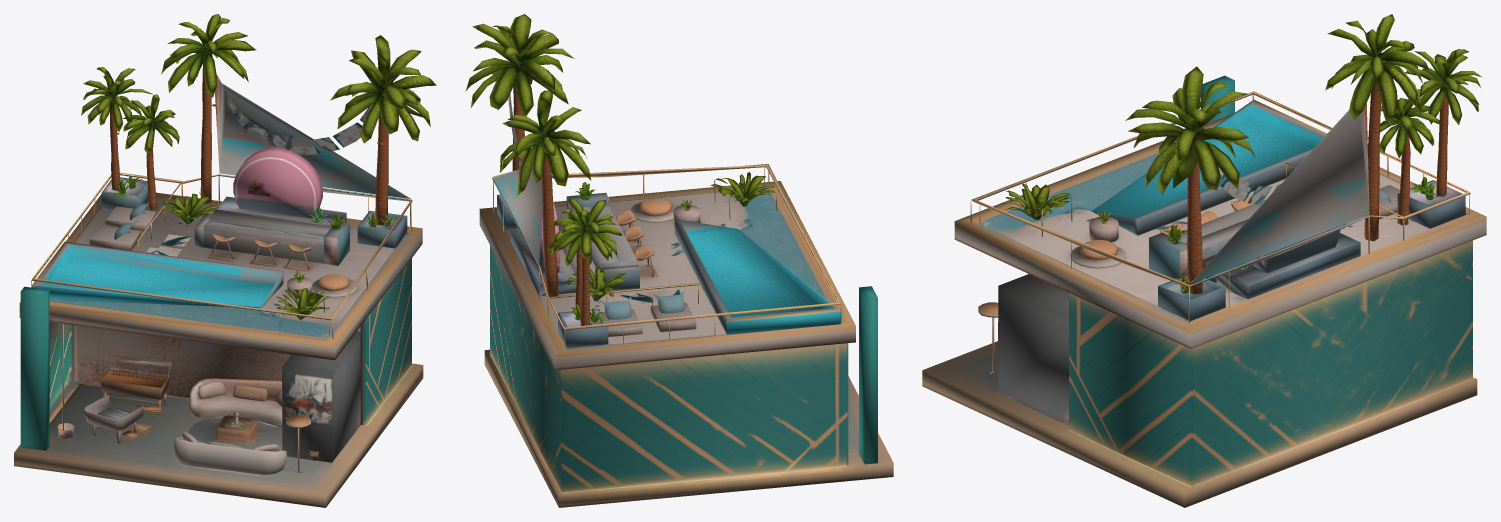
Rendered from tier5.glb.
3 views of the same model, side by side, from view 1: azimuth 30°, elevation 25°; view 2: azimuth 150°, elevation 25°; view 3: azimuth 270°, elevation 25° (orthographic). The views are drawn at different scales.
Parts seen in each view (by area): view 1: tripo_node_2a9fca72-c377-47f5-a637-ee99600f8f64; view 2: tripo_node_2a9fca72-c377-47f5-a637-ee99600f8f64; view 3: tripo_node_2a9fca72-c377-47f5-a637-ee99600f8f64.
Boxes of the visible parts, x1,y1,x2,y2 form: tripo_node_2a9fca72-c377-47f5-a637-ee99600f8f64: (14, 14, 436, 507); tripo_node_2a9fca72-c377-47f5-a637-ee99600f8f64: (465, 14, 893, 507); tripo_node_2a9fca72-c377-47f5-a637-ee99600f8f64: (922, 14, 1486, 507).
Size of the model in its own units: 1.25 by 0.998 by 1.24.
1 material, 1 textured.
